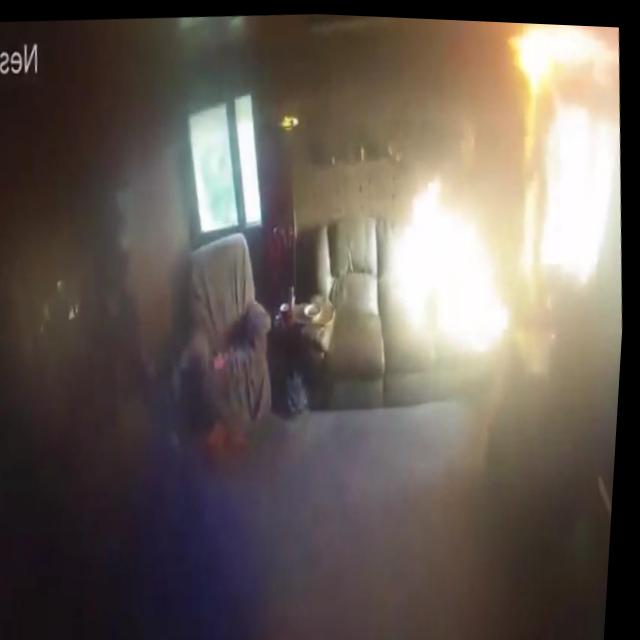fire: (501, 18, 623, 94)
